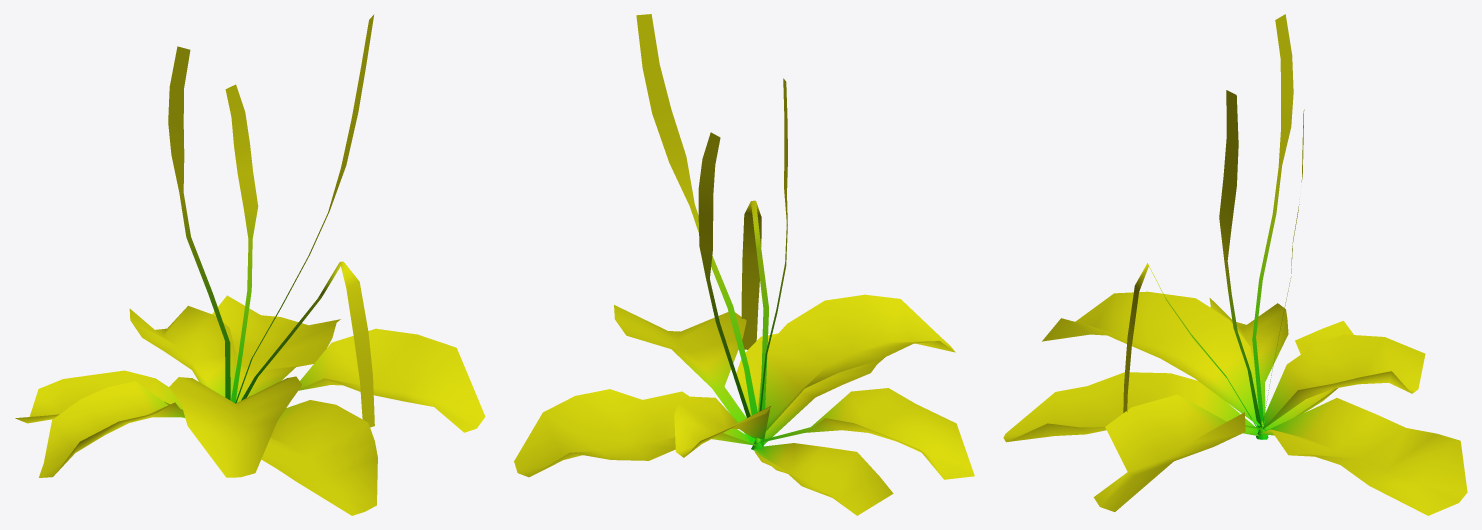
The model's file is Broadleaf Plantain_LOD0_Var3_sfhjc.fbx.
3 renders of one model, left to right at view 1: azimuth 30°, elevation 25°; view 2: azimuth 150°, elevation 25°; view 3: azimuth 270°, elevation 25°, orthographic. The views are drawn at different scales.
Visible parts, largest first — view 1: _d762_Var3_LOD0; view 2: _d762_Var3_LOD0; view 3: _d762_Var3_LOD0.
Boxes of the visible parts, x1,y1,x2,y2 form: _d762_Var3_LOD0: (15,14,485,515); _d762_Var3_LOD0: (514,14,974,515); _d762_Var3_LOD0: (1003,14,1467,515).
Bounding box in the file's own units: 21.5 × 20.66 × 21.17.
